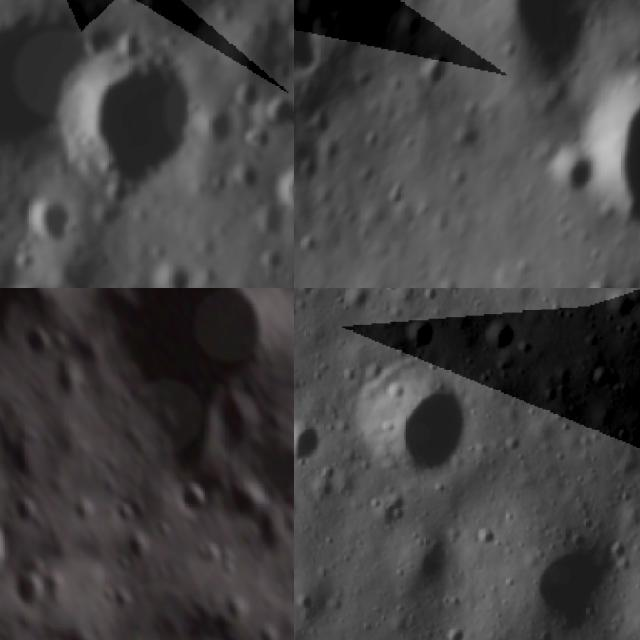crater: (89, 288, 294, 488), (51, 24, 232, 208), (357, 361, 474, 481), (505, 526, 625, 640), (490, 0, 602, 110), (588, 84, 640, 236), (384, 531, 458, 603), (0, 288, 63, 369), (246, 436, 294, 525), (21, 194, 78, 254), (543, 142, 596, 206), (219, 474, 271, 530), (294, 0, 323, 92), (6, 570, 52, 623), (413, 46, 456, 100), (171, 477, 216, 528), (8, 489, 52, 536), (0, 506, 22, 595), (260, 80, 294, 135), (478, 314, 521, 357), (51, 361, 90, 406), (294, 414, 324, 471), (19, 323, 58, 365), (102, 581, 141, 621), (106, 494, 144, 534), (279, 154, 294, 233), (234, 79, 264, 115), (207, 609, 241, 640), (336, 288, 372, 317), (79, 288, 141, 303), (250, 618, 287, 640), (581, 274, 630, 288)
